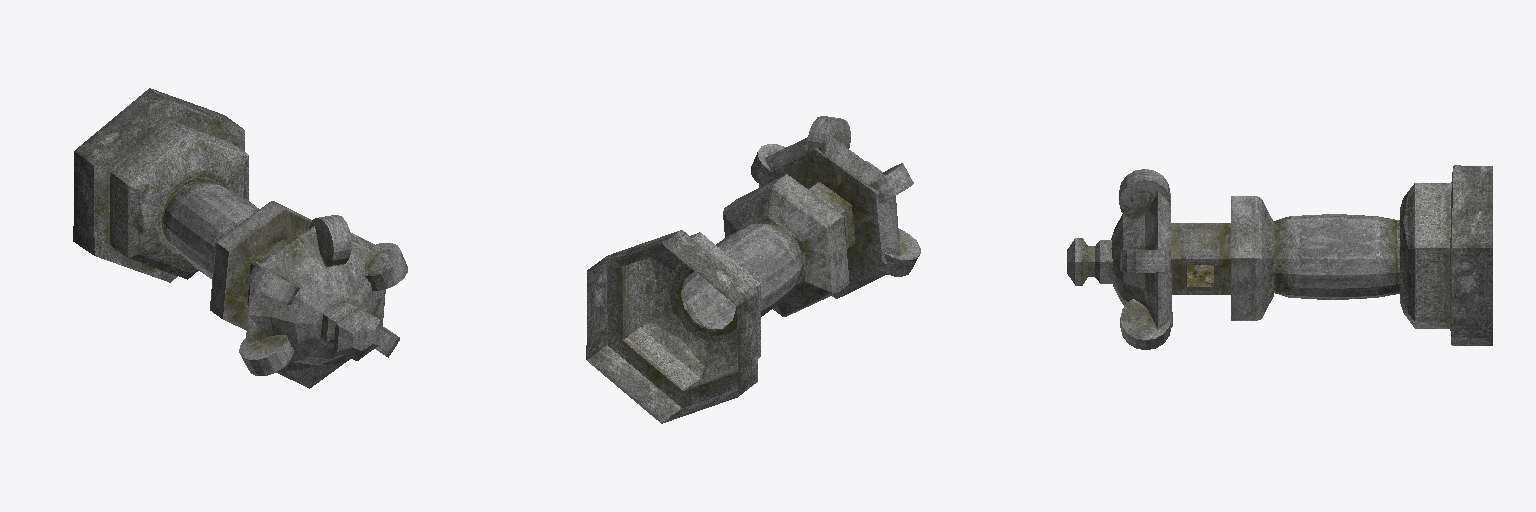
The picture shows the model from 3 angles: view 1: azimuth 30°, elevation 25°; view 2: azimuth 150°, elevation 25°; view 3: azimuth 270°, elevation 25°; orthographic projection.
Parts seen in each view (by area): view 1: Lantern_01; view 2: Lantern_01; view 3: Lantern_01.
Part boxes in pixels (left/top/right/bottom): Lantern_01: left=73, top=88, right=407, bottom=388; Lantern_01: left=586, top=116, right=920, bottom=423; Lantern_01: left=1067, top=165, right=1492, bottom=349.
Size of the model in its own units: 12.24 by 12.97 by 27.74.
1 materials, 1 textured.